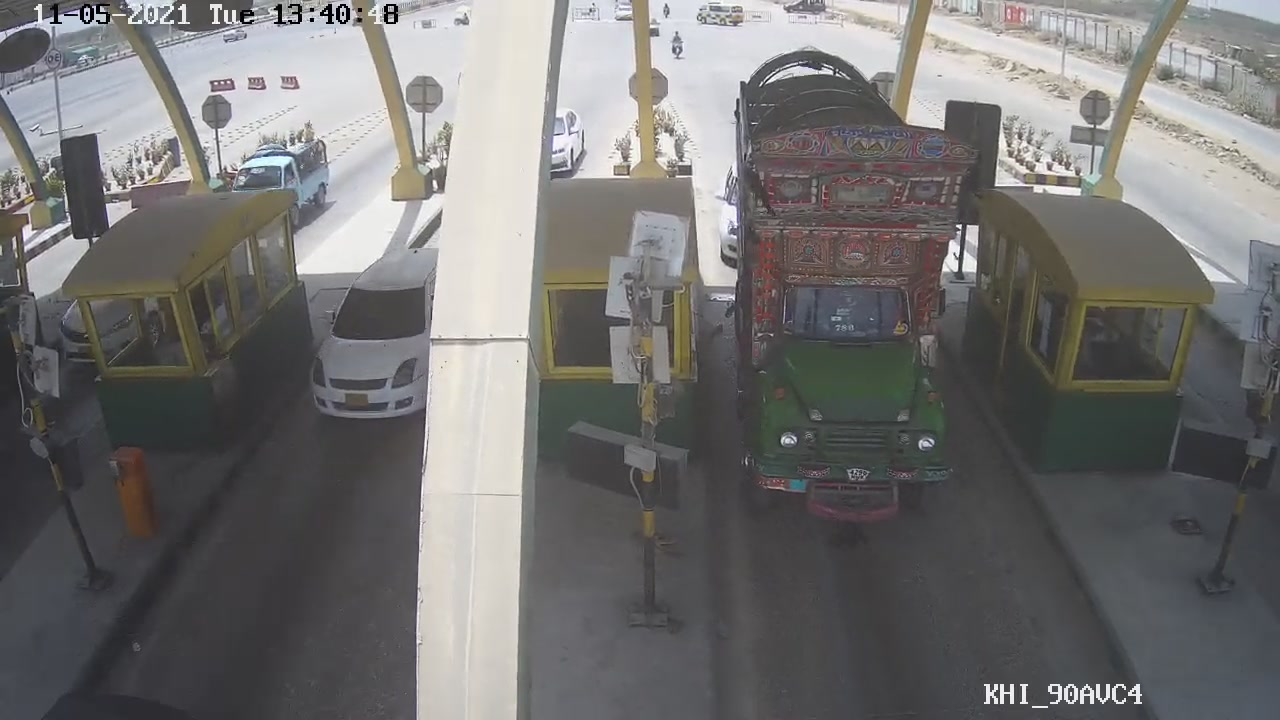F5: (701, 96, 1006, 525)
